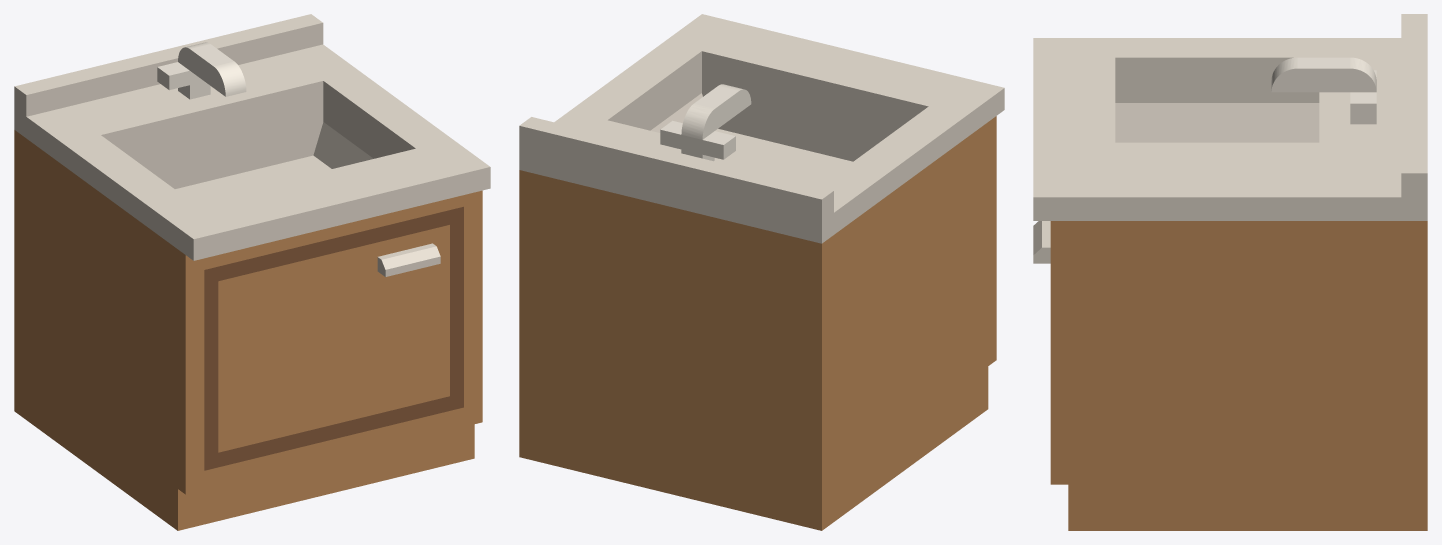
The model's file is kitKitchenSink.glb.
3 views of the same model, side by side, from view 1: azimuth 30°, elevation 25°; view 2: azimuth 150°, elevation 25°; view 3: azimuth 270°, elevation 25° (orthographic). The views are drawn at different scales.
Visible parts, largest first — view 1: kitKitchenSink_wood, kitKitchenSink_metal, kitKitchenSink_woodDark, kitKitchenSink_metalLight; view 2: kitKitchenSink_wood, kitKitchenSink_metal, kitKitchenSink_metalLight; view 3: kitKitchenSink_wood, kitKitchenSink_metal, kitKitchenSink_metalLight.
Boxes of the visible parts, <box> form: kitKitchenSink_wood: <box>14,130,482,530</box>; kitKitchenSink_metal: <box>14,14,490,276</box>; kitKitchenSink_woodDark: <box>204,206,463,470</box>; kitKitchenSink_metalLight: <box>157,42,246,99</box>; kitKitchenSink_wood: <box>519,116,996,530</box>; kitKitchenSink_metal: <box>519,14,1004,243</box>; kitKitchenSink_metalLight: <box>660,84,751,161</box>; kitKitchenSink_wood: <box>1050,221,1427,530</box>; kitKitchenSink_metal: <box>1033,14,1427,263</box>; kitKitchenSink_metalLight: <box>1271,57,1376,124</box>.
Size of the model in its own units: 0.86 by 0.98 by 0.9.
